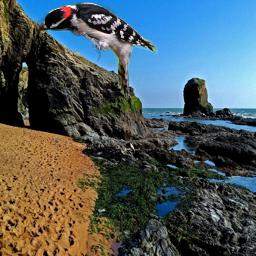Woodpecker: (37, 1, 159, 100)
